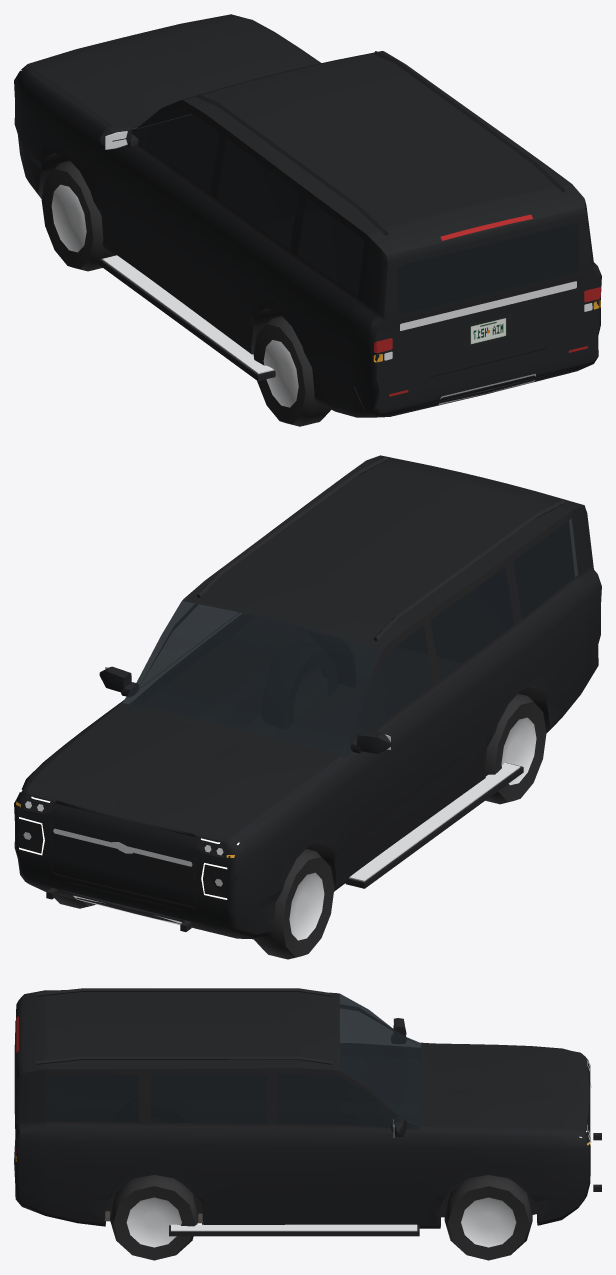
File: suv_lod1.glb
The picture shows the model from 3 angles, top to bottom: view 1: azimuth 30°, elevation 25°; view 2: azimuth 150°, elevation 25°; view 3: azimuth 270°, elevation 25°; orthographic projection. The views are drawn at different scales.
Visible parts, largest first — view 1: body, wheel_FL, wheel_RL; view 2: body, wheel_FL, wheel_RL; view 3: body, wheel_FR, wheel_RR.
Part boxes in pixels (x1,y1,x2,y2): body: (14, 14, 601, 417); wheel_FL: (41, 161, 112, 271); wheel_RL: (253, 316, 330, 426); body: (14, 455, 601, 939); wheel_FL: (254, 849, 334, 959); wheel_RL: (485, 693, 546, 804); body: (14, 988, 601, 1236); wheel_FR: (444, 1175, 532, 1260); wheel_RR: (110, 1175, 198, 1260).
Bounding box in the file's own units: 2.43 × 1.97 × 5.4.
Materials: 11 (1 with a texture image).
